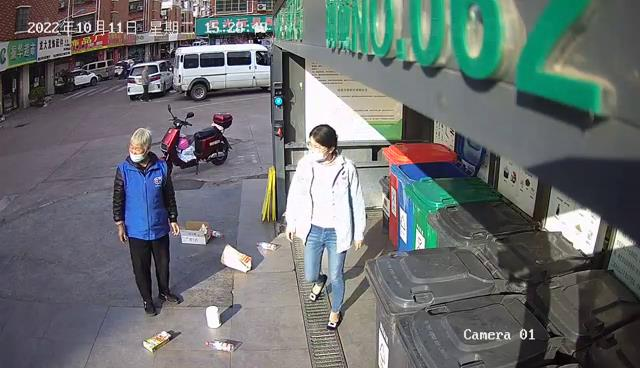lvzhipin: (204, 304, 224, 329)
person: (282, 120, 370, 333)
suliaozhipin: (203, 338, 236, 354), (253, 238, 277, 253), (206, 227, 225, 241)
worker: (110, 125, 188, 322)
zhizhipin: (218, 242, 255, 276), (178, 218, 212, 246), (141, 328, 174, 355)
